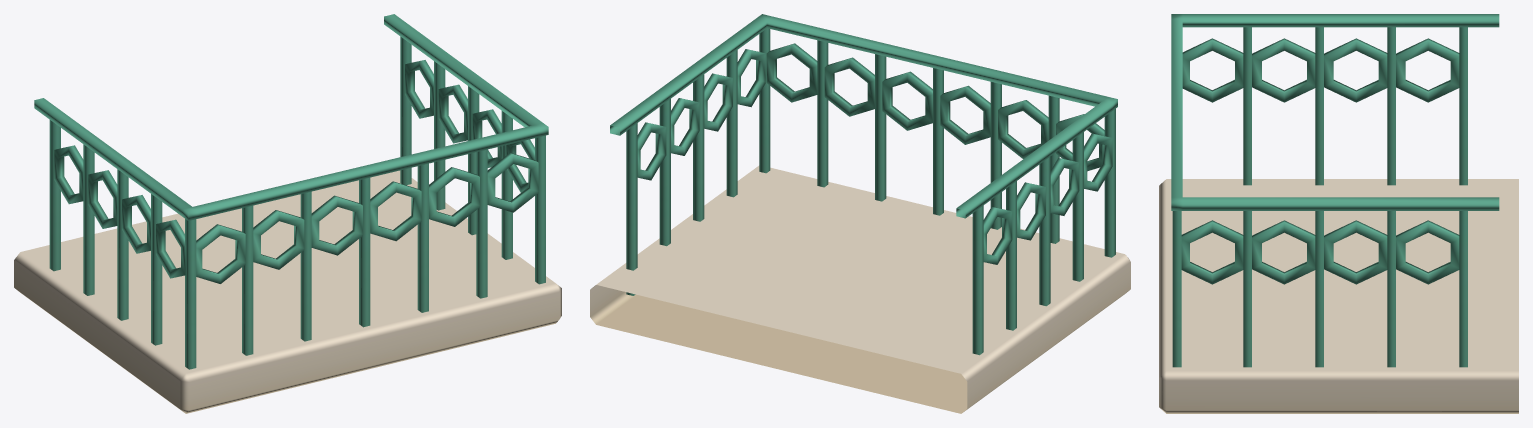
File: BalcanyLarge.fbx
3 renders of one model, left to right at view 1: azimuth 30°, elevation 25°; view 2: azimuth 150°, elevation 25°; view 3: azimuth 270°, elevation 25°, orthographic. The views are drawn at different scales.
Visible parts, largest first — view 1: BalcanyLarge; view 2: BalcanyLarge; view 3: BalcanyLarge.
Boxes of the visible parts, x1=… form: BalcanyLarge: x1=14, y1=14, x2=561, y2=413; BalcanyLarge: x1=590, y1=14, x2=1130, y2=413; BalcanyLarge: x1=1159, y1=14, x2=1518, y2=413.
Bounding box in the file's own units: 313 × 155 × 240.
